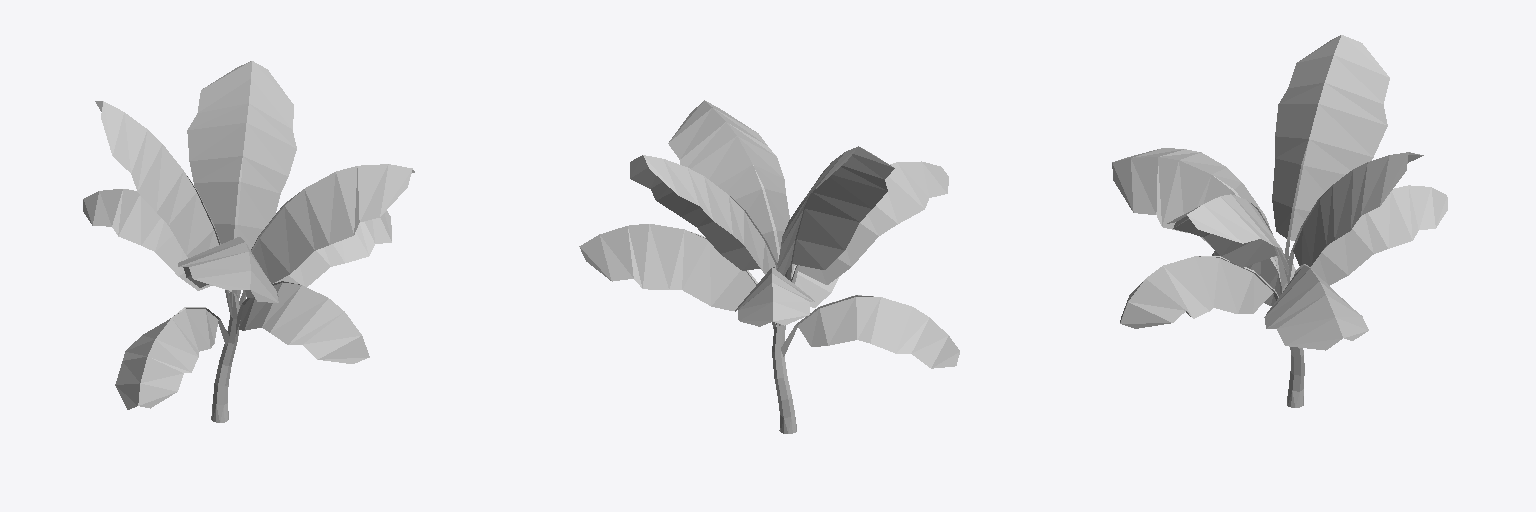
File: banana plant 01_lod2.obj
3 views of the same model, side by side, from view 1: azimuth 30°, elevation 25°; view 2: azimuth 150°, elevation 25°; view 3: azimuth 270°, elevation 25° (orthographic).
Parts seen in each view (by area): view 1: tree; view 2: tree; view 3: tree.
Part boxes in pixels (x1,y1,x2,y2): tree: (83,61,414,422); tree: (579,100,959,433); tree: (1112,35,1447,407).
Bounding box in the file's own units: 278 × 272 × 255.